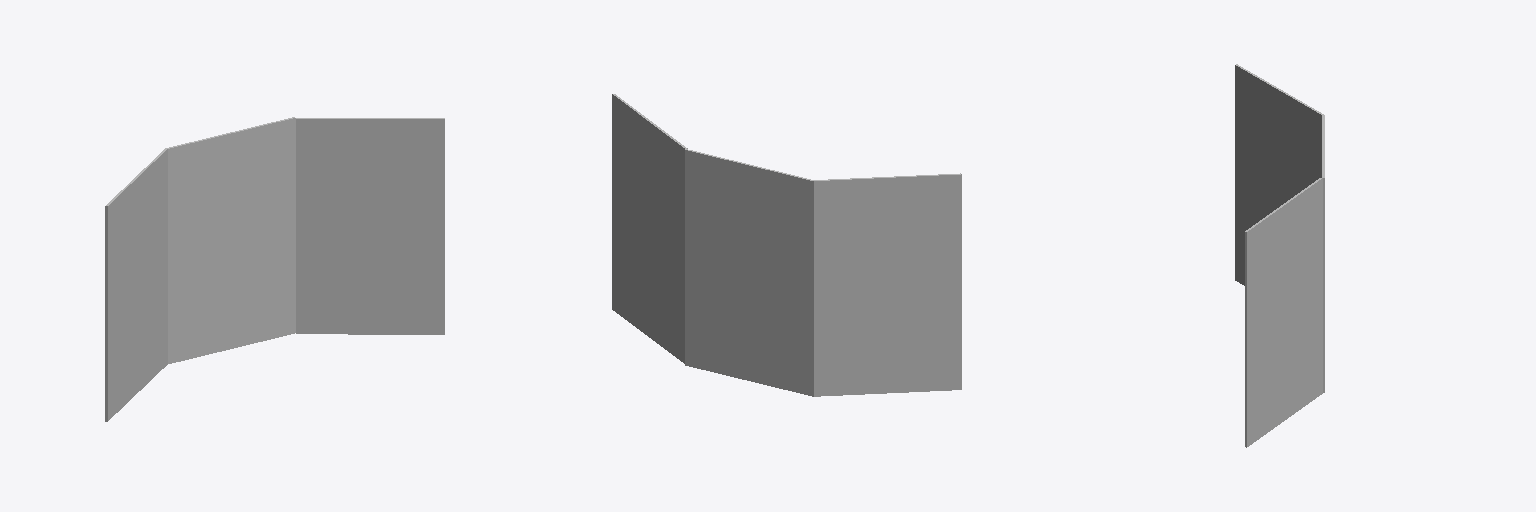
File: ticket2.obj
The picture shows the model from 3 angles: view 1: azimuth 30°, elevation 25°; view 2: azimuth 150°, elevation 25°; view 3: azimuth 270°, elevation 25°; orthographic projection.
Visible parts, largest first — view 1: Cube.001, Cube, Cube.002; view 2: Cube.002, Cube, Cube.001; view 3: Cube.001, Cube.002, Cube.
Boxes of the visible parts, x1,y1,x2,y2 form: Cube.001: [296, 118, 444, 334]; Cube: [166, 117, 295, 363]; Cube.002: [105, 148, 167, 421]; Cube.002: [813, 173, 961, 396]; Cube: [685, 149, 813, 396]; Cube.001: [612, 94, 687, 363]; Cube.001: [1245, 178, 1322, 447]; Cube.002: [1235, 64, 1323, 285]; Cube: [1322, 115, 1324, 392].
Bounding box in the file's own units: 401 × 240 × 90.67.